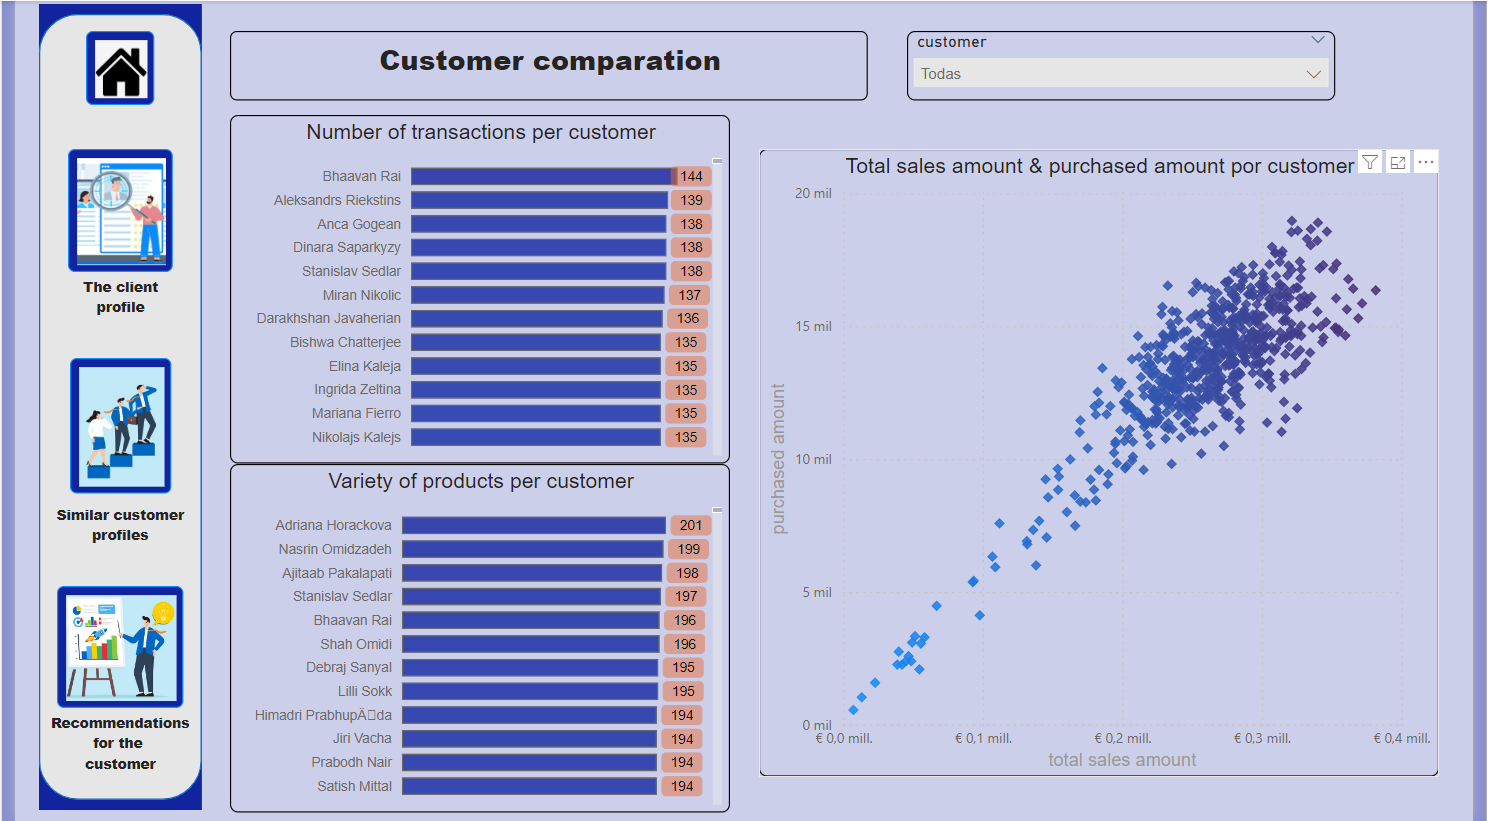

The dashboard page shown, as its layout file describes it:
{"tool":"powerbi","page":{"name":"Comparative","canvas":[1280,720],"ordinal":0},"visuals":[{"type":"shape","box":[21.1,2.6,143.1,707.7],"z":0},{"type":"shape","box":[21.3,11.5,142.8,689.9],"z":1000},{"type":"group","id":"g1","title":"Grupo 1","box":[27.2,26.3,130,655],"z":2000},{"type":"image","box":[46.3,129.5,92.2,108.2],"z":2000,"group":"g1"},{"type":"textbox","box":[188.8,26.3,560.2,60.6],"z":3000},{"type":"textbox","box":[42.7,241.2,99.3,51.4],"z":3000,"group":"g1"},{"type":"slicer","title":"The ID of the desired client","fields":{"Values":["data.customer"]},"box":[783.2,26.3,375.8,60.6],"z":4000},{"type":"image","box":[48,313.6,88.7,118.8],"z":4000,"group":"g1"},{"type":"clusteredBarChart","title":"Number of transactions per customer","fields":{"Category":["data.customer"],"Y":["data.Transaction"]},"box":[188.8,100.1,439,306.4],"z":5000},{"type":"textbox","box":[30.7,441.3,123.3,41.7],"z":5000,"group":"g1"},{"type":"clusteredBarChart","title":"Variety of products per customer","fields":{"Category":["data.customer"],"Y":["data.variety of products"]},"box":[188.8,406.5,439,306.4],"z":6000},{"type":"image","box":[37,514,110.8,107.3],"z":6000,"group":"g1"},{"type":"scatterChart","title":"Total sales amount & purchased amount por customer","fields":{"Category":["data.customer"],"X":["data.total sales amount"],"Y":["data.purchased amount"]},"box":[653.3,130,597.1,551.4],"z":7000},{"type":"textbox","box":[27.2,623.9,130.3,56.7],"z":7000,"group":"g1"},{"type":"image","box":[62.2,26.3,60.3,64.7],"z":8000,"group":"g1"}]}

Visuals, with their boxes in screenshot pixels (x1, y1, x2, y2), scaled from the page's 1280x720 canvas onto the 1488x821 screenshot:
shape: (25, 3, 191, 810)
shape: (25, 13, 191, 800)
"Grupo 1" group: (32, 30, 183, 777)
image: (54, 148, 161, 271)
textbox: (219, 30, 871, 99)
textbox: (50, 275, 165, 334)
"The ID of the desired client" slicer: (910, 30, 1347, 99)
image: (56, 358, 159, 493)
"Number of transactions per customer" clusteredBarChart: (219, 114, 730, 464)
textbox: (36, 503, 179, 551)
"Variety of products per customer" clusteredBarChart: (219, 464, 730, 813)
image: (43, 586, 172, 708)
"Total sales amount & purchased amount por customer" scatterChart: (759, 148, 1454, 777)
textbox: (32, 711, 183, 776)
image: (72, 30, 142, 104)
